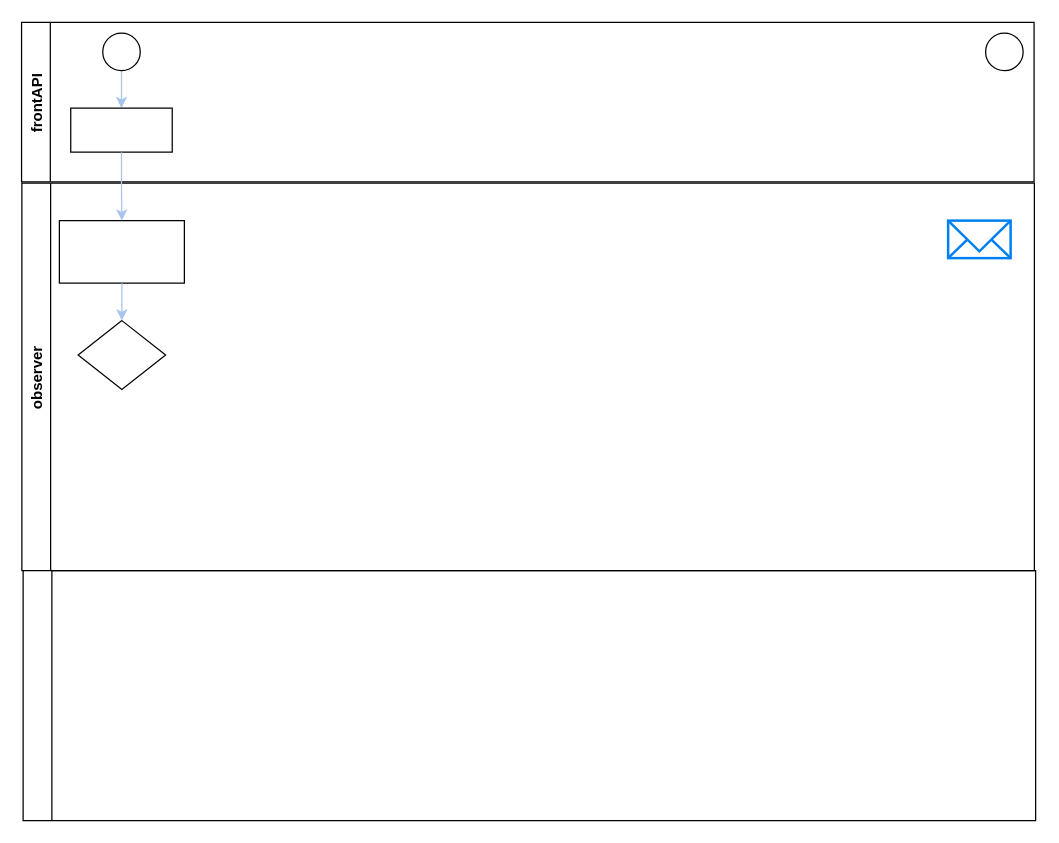
Image size: 1059x843. Some labels were removed from this diagram. Here are the shapes that lost their labels. From the top down, the centre of each, then its label:
[121,129]: Создание запроса graphQL
[529,695]: storage
